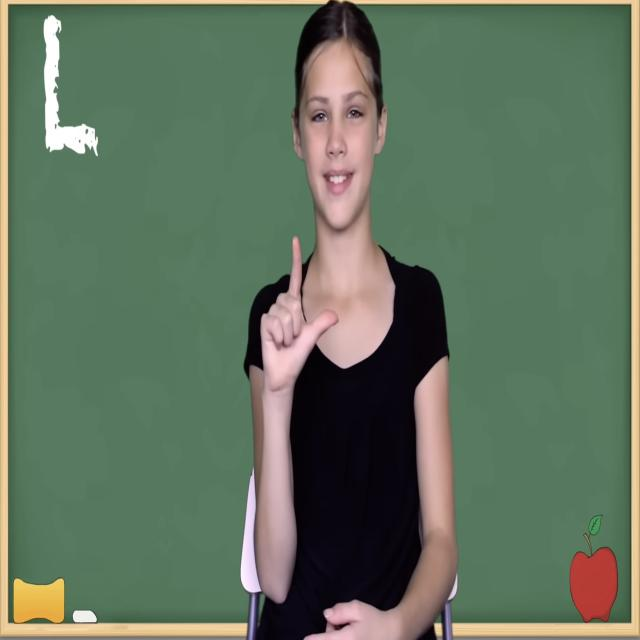L: (248, 226, 341, 407)
